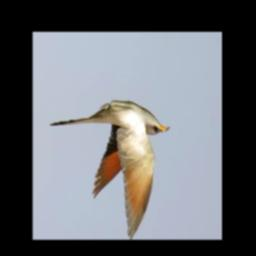Cuckoo: (50, 102, 169, 240)
